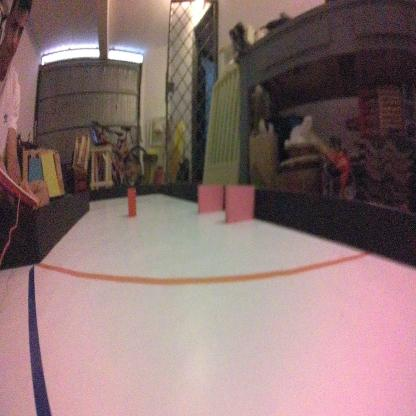magenta: (223, 184, 255, 225), (197, 181, 225, 216)
